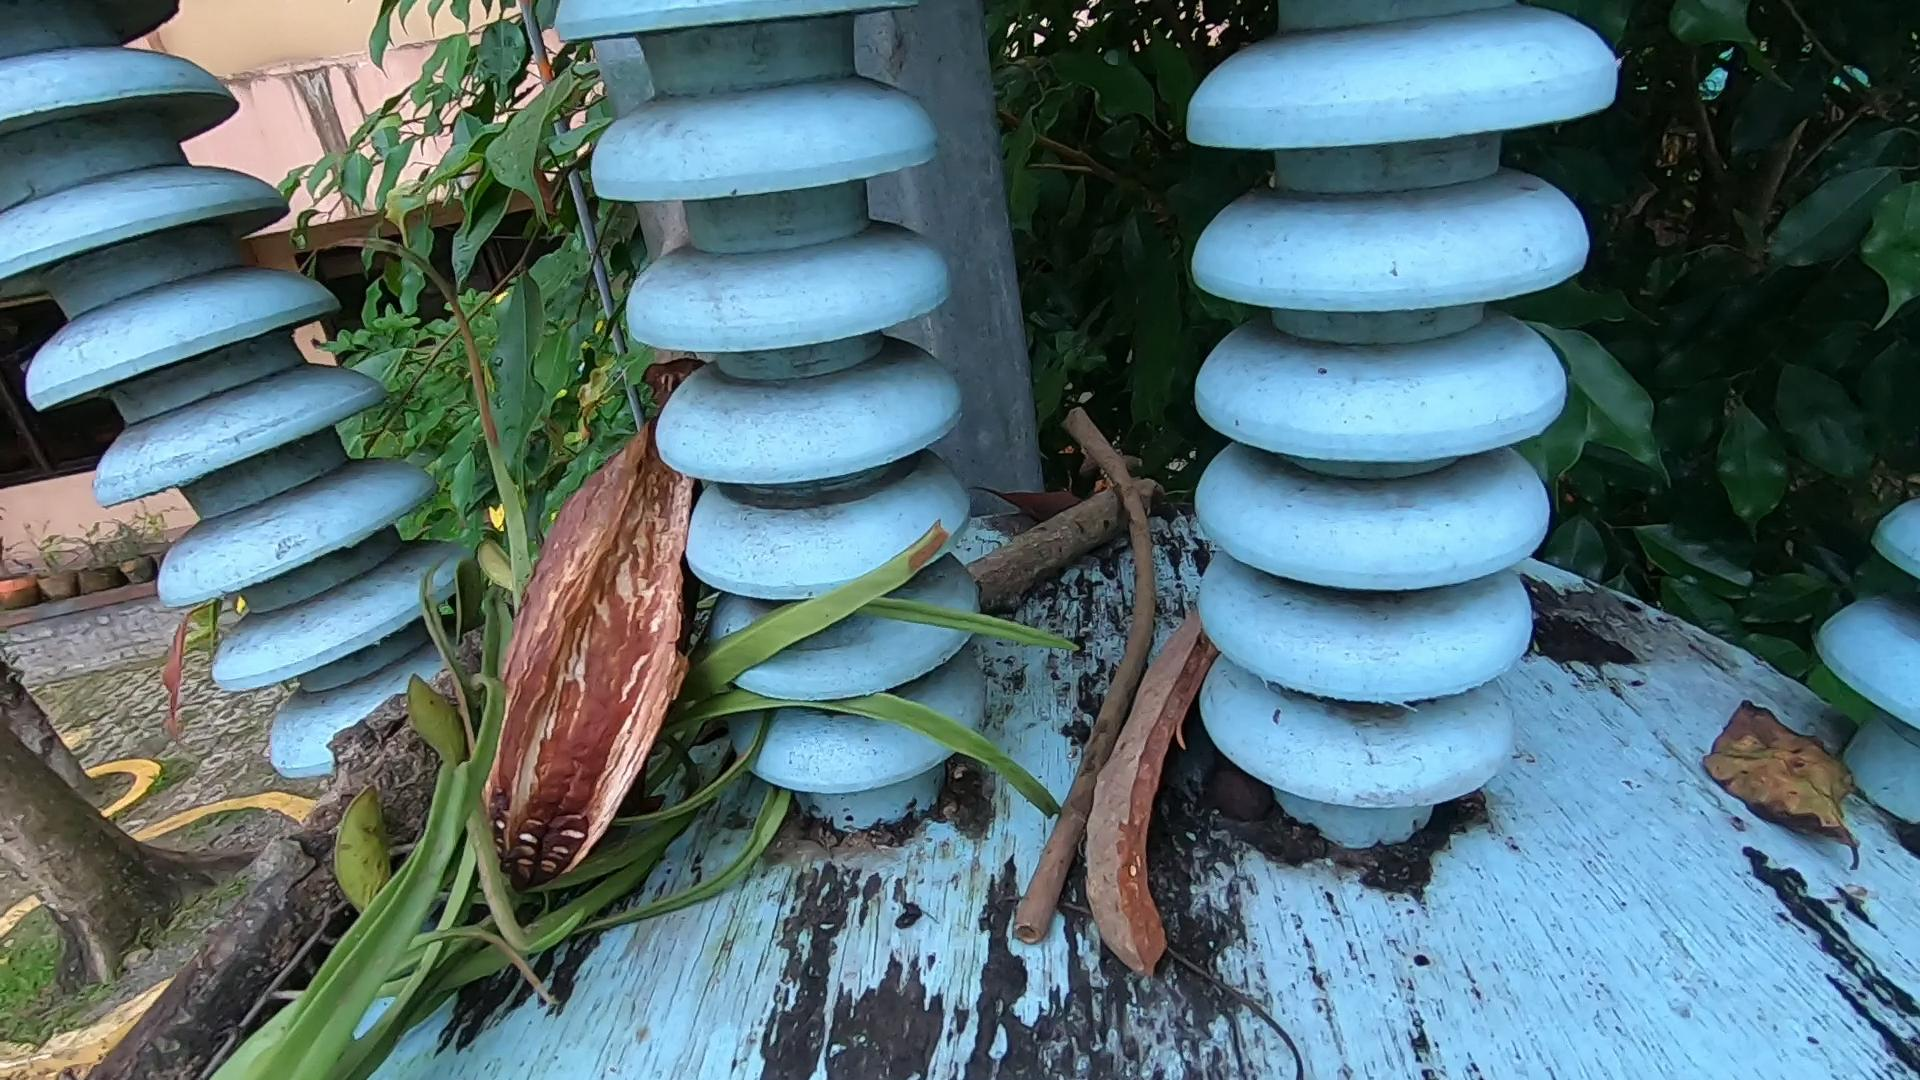branch with leaves: (69, 247, 1065, 1080)
leaf: (1701, 696, 1869, 857)
mahogany fruit: (487, 376, 691, 832), (1060, 549, 1244, 1005)
tree branch: (1010, 392, 1160, 940), (968, 463, 1158, 593)
